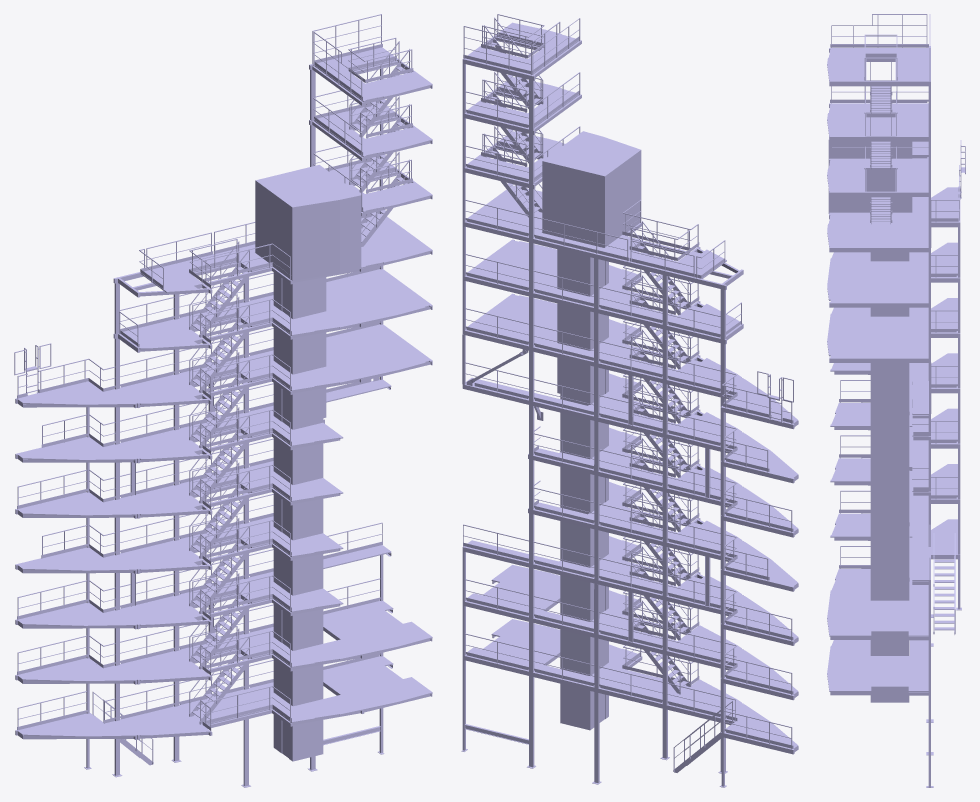
Rendered from Cavern-HO-SideA-cut2.glb.
3 renders of one model, left to right at view 1: azimuth 30°, elevation 25°; view 2: azimuth 150°, elevation 25°; view 3: azimuth 270°, elevation 25°, orthographic. The views are drawn at different scales.
Visible parts, largest first — view 1: S__000001C699B1D330; view 2: S__000001C699B1D330; view 3: S__000001C699B1D330.
Boxes of the visible parts, x1=… form: S__000001C699B1D330: x1=14, y1=14, x2=432, y2=787; S__000001C699B1D330: x1=461, y1=14, x2=798, y2=787; S__000001C699B1D330: x1=827, y1=14, x2=965, y2=787.
Bounding box in the file's own units: 16.69 × 33.4 × 5.68.
